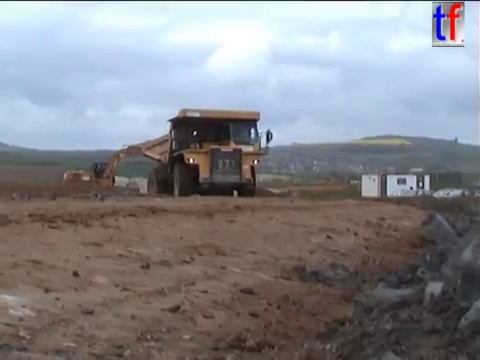excavator: (59, 137, 173, 197)
truck: (137, 106, 276, 199)
